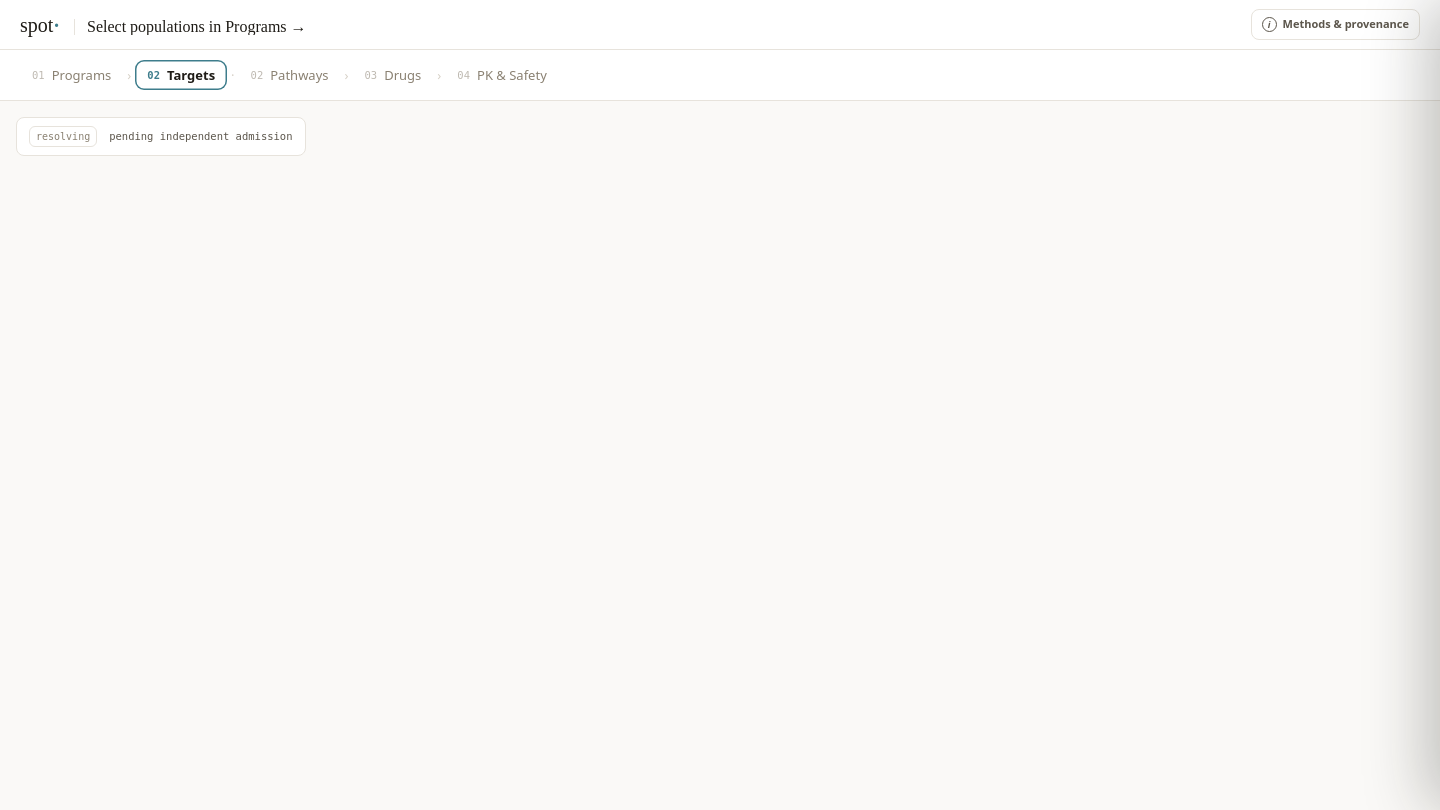
Test: contextual Methods & Provenance drawer › the ONE combined action opens the single drawer with BOTH sections (no separate provenance action)
This screenshot has width=1440, height=810.
Click the button "i Methods & provenance" at (1335, 25), box [1251,9,1420,40]
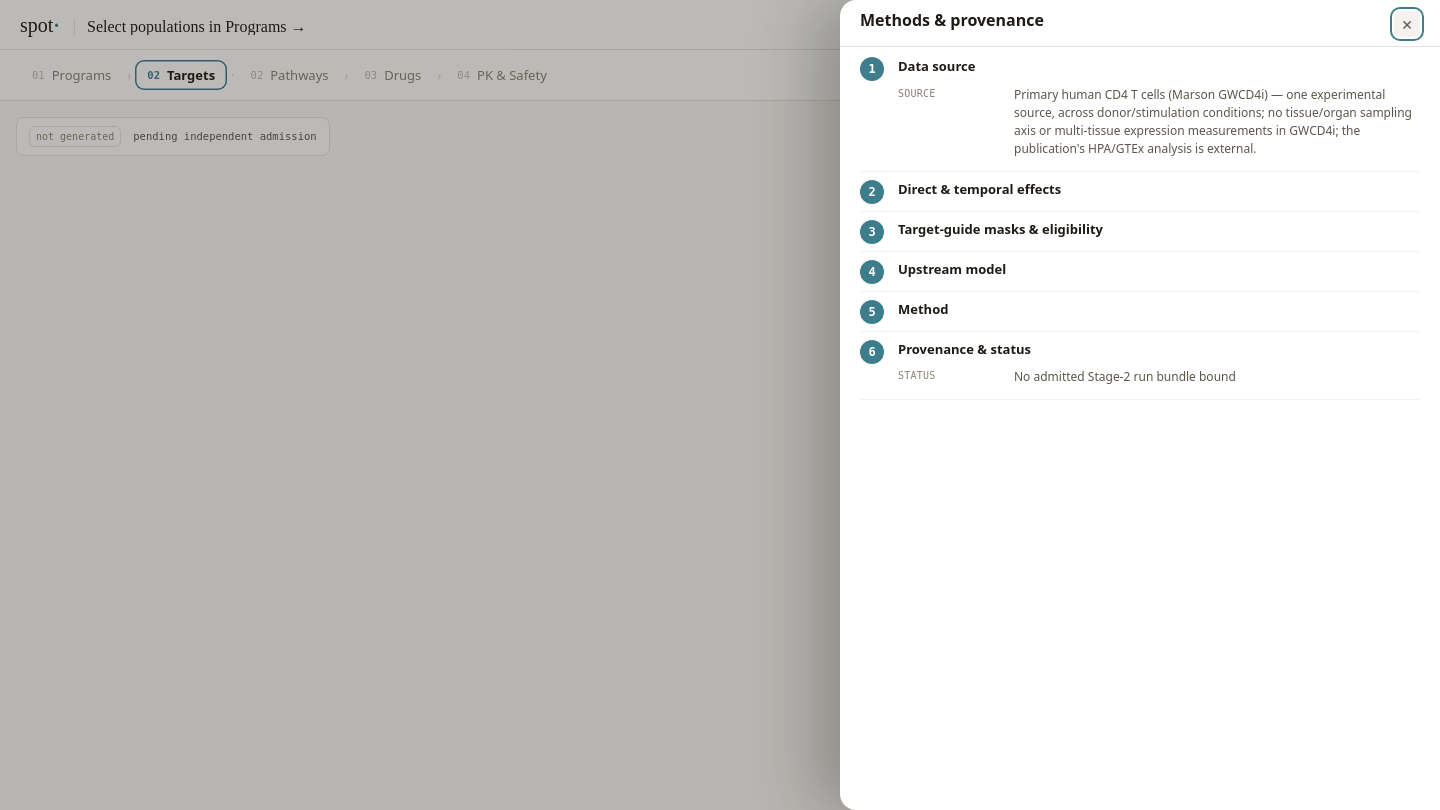
Expected: the element that starts with "Data source" is shown, [860,49,1420,332]
Expected: the element that starts with "Provenance & status" is shown, [860,332,1420,400]
